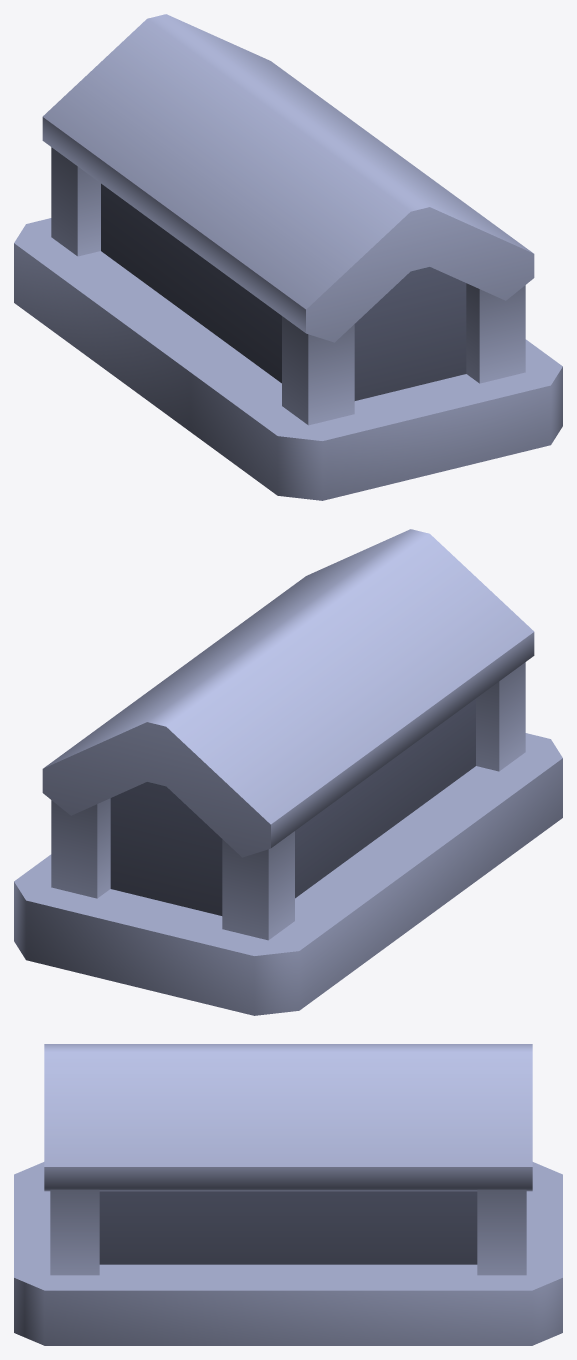
Rendered from crypt-b.glb.
The picture shows the model from 3 angles, top to bottom: view 1: azimuth 30°, elevation 25°; view 2: azimuth 150°, elevation 25°; view 3: azimuth 270°, elevation 25°; orthographic projection. The views are drawn at different scales.
Visible parts, largest first — view 1: crypt-b; view 2: crypt-b; view 3: crypt-b.
Boxes of the visible parts, left/top/right/bottom form: crypt-b: left=14, top=14, right=562, bottom=500; crypt-b: left=14, top=529, right=562, bottom=1015; crypt-b: left=14, top=1044, right=562, bottom=1345.
Bounding box in the file's own units: 0.62 × 0.5224 × 1.12.
1 material, 1 textured.
